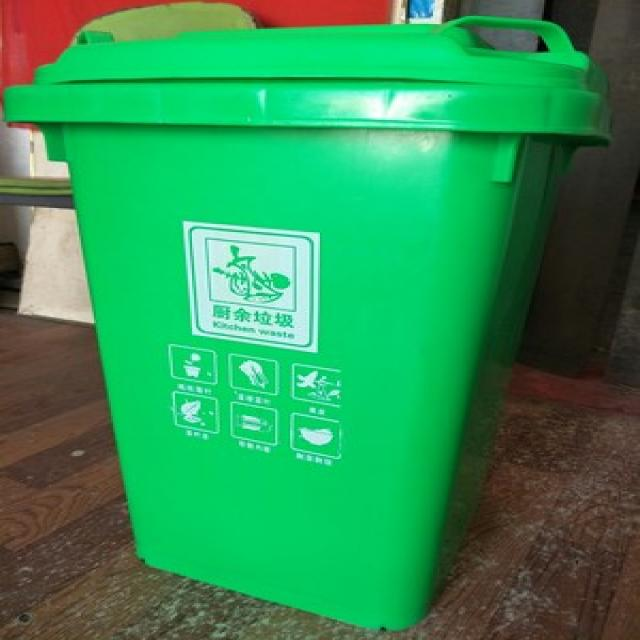ash bin: (0, 9, 614, 627)
